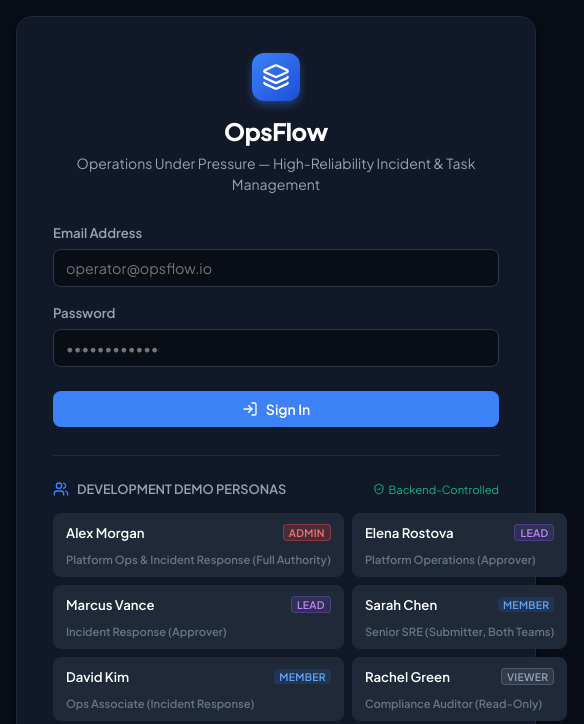
LoginPage Component › displays error alert on server authentication failure
In the field labelled "Email Address": (276, 268) [53,249,499,287], type "bad@opsflow.io"
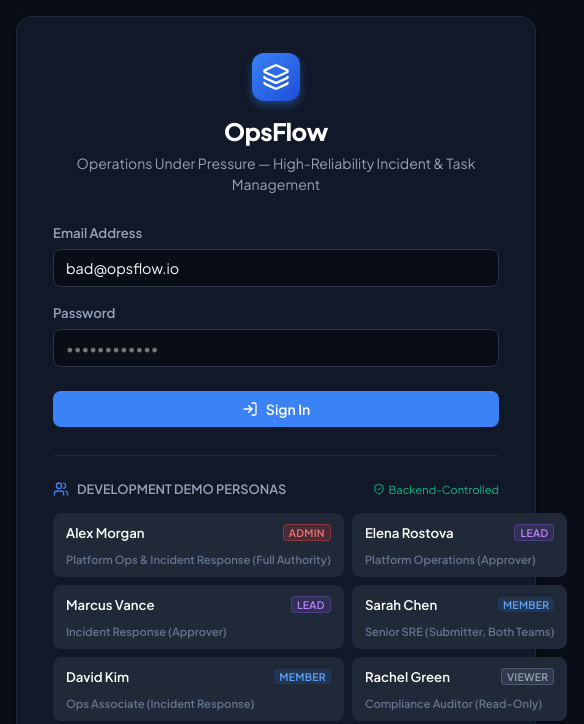
In the password field labelled "Password": (276, 348) [53,329,499,367], type "wrongpassword"
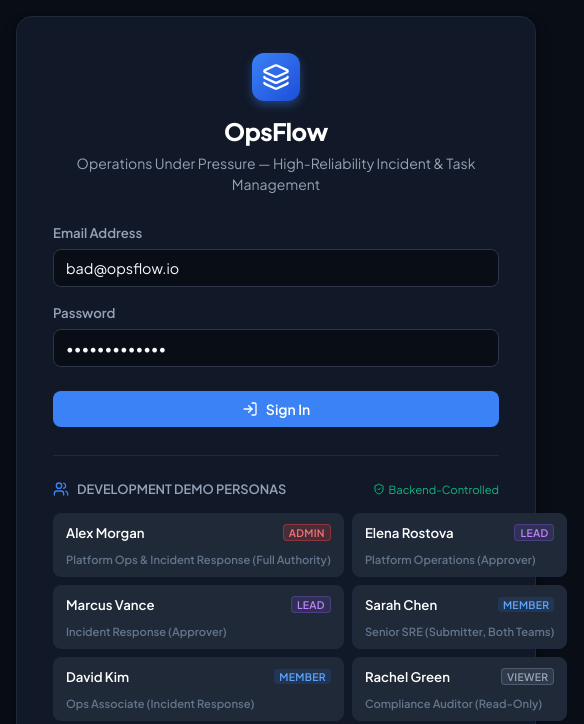
Click the button "Sign In": (276, 409) [53,391,499,427]
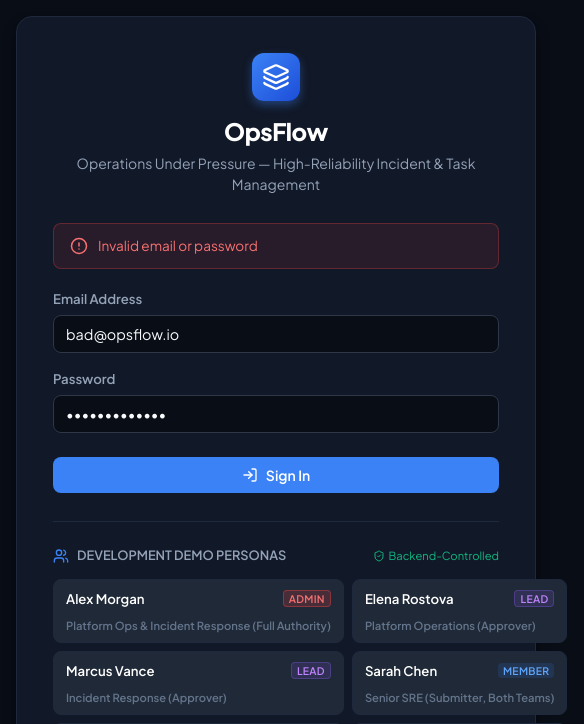
Now the message reads "Invalid email or password", box [98,237,258,254]
